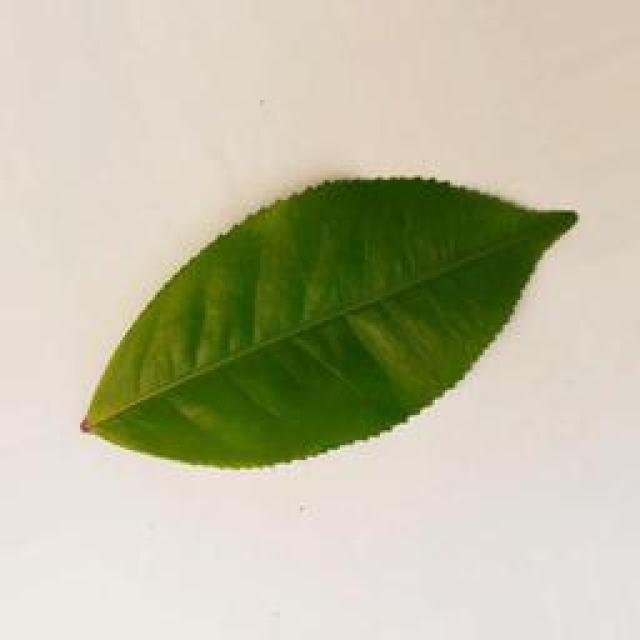Healthy: (78, 174, 572, 482)
